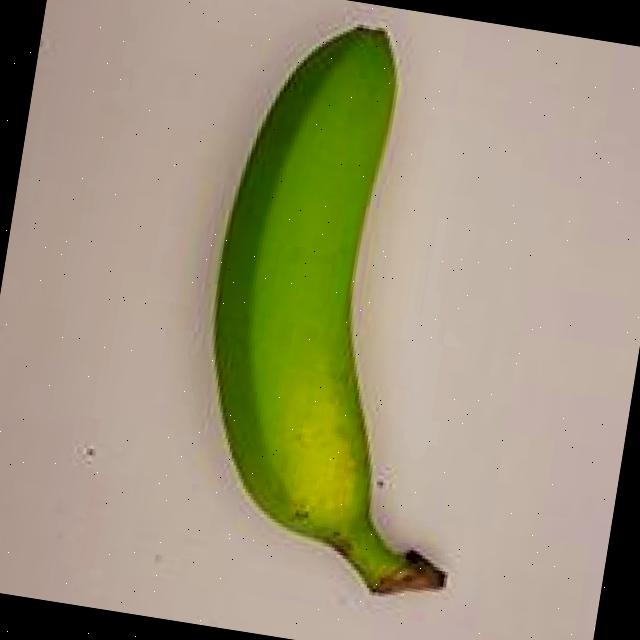Unripe: (148, 0, 543, 626)
